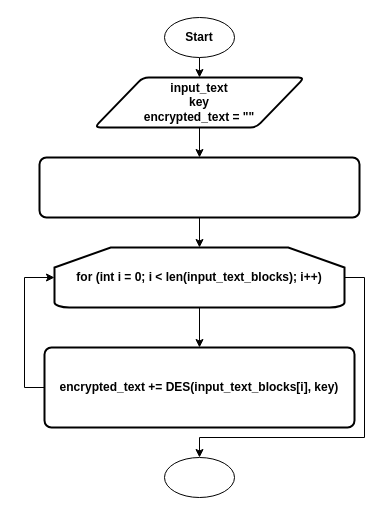
Image size: 390x515. Some labels were removed from this diagram. Each missing label, with the centre of its shape:
"End" belongs at point (199, 477).
"input_text_blocks = split(text=input_text, block_size=64)" belongs at point (199, 187).
